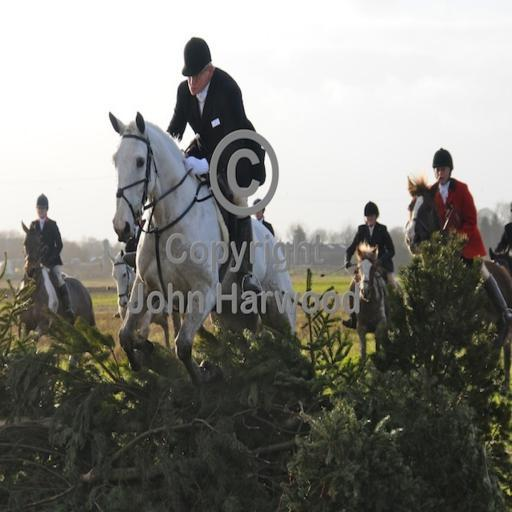Horse: (110, 110, 296, 387), (402, 175, 511, 384), (12, 216, 98, 364), (108, 245, 182, 350), (351, 240, 405, 361), (487, 246, 511, 275)
